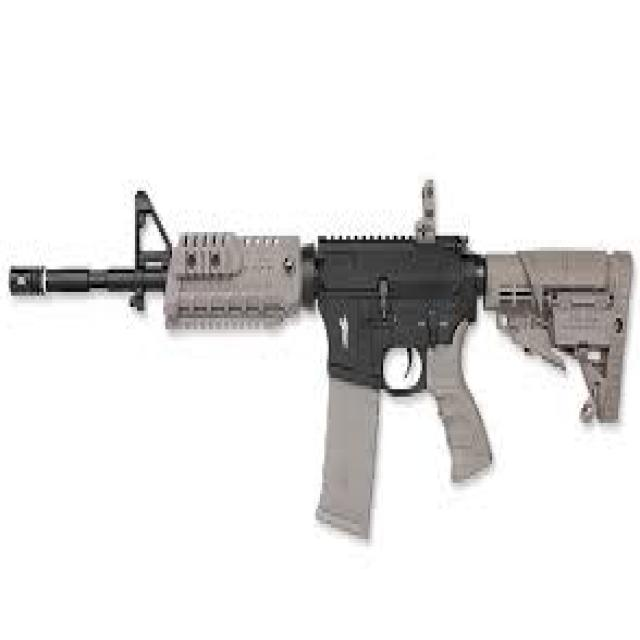rifle: (9, 188, 636, 558)
